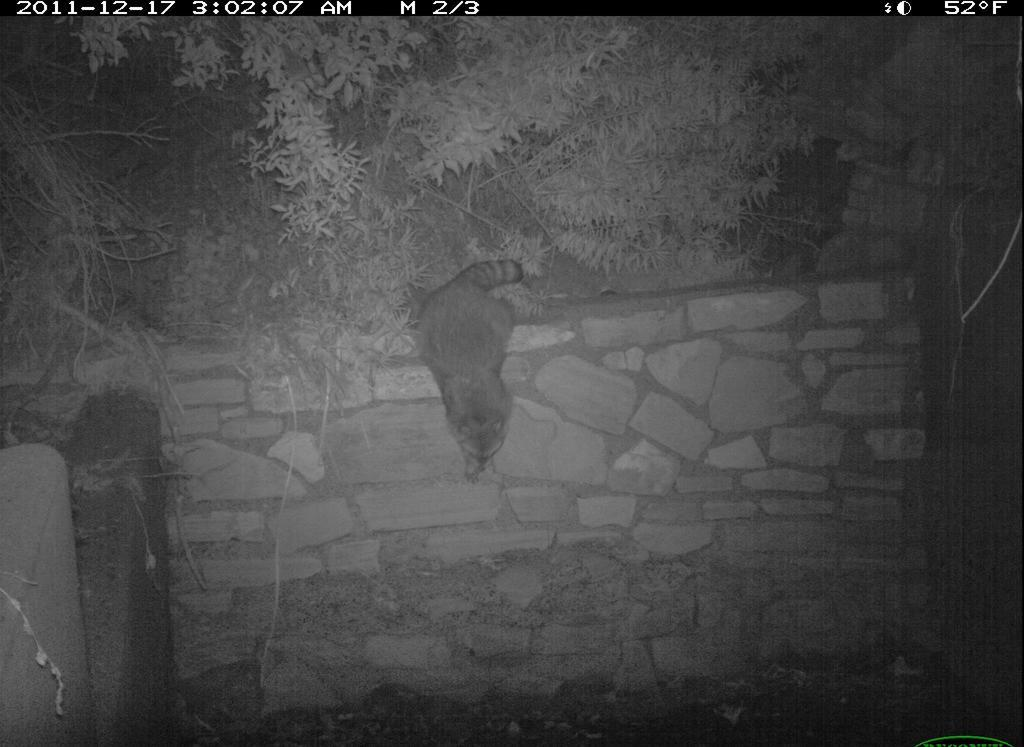raccoon: (408, 254, 540, 492)
